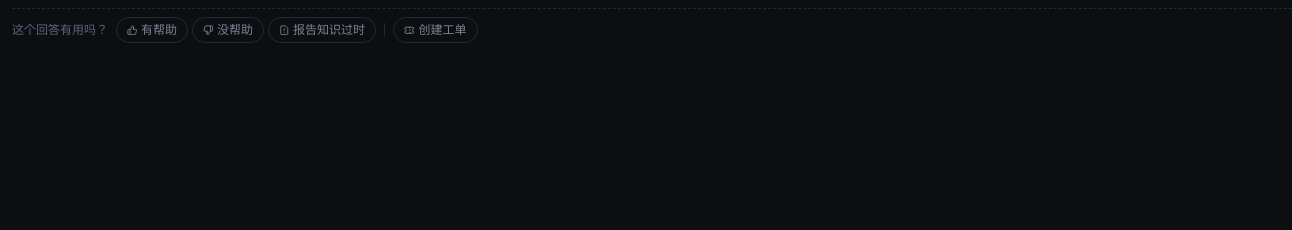
Test: FeedbackRow › shows 无引用 when the message carries no citations
What coordinates should you click on to do the following:
click the button with test id "feedback-ticket"
I would click on:
 (435, 30)
Its box is [393,17,478,43].
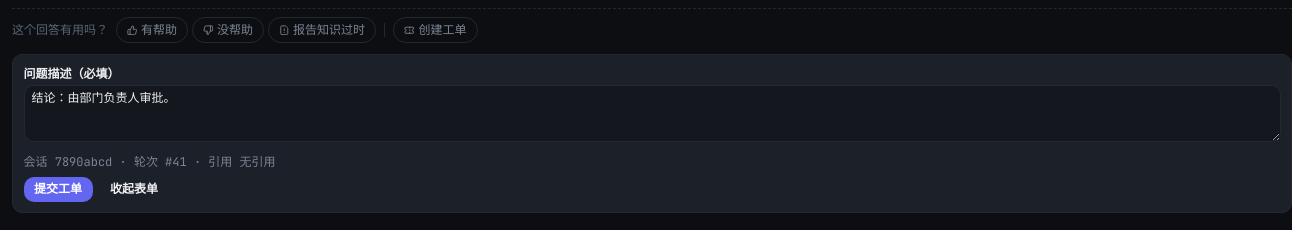
Expected: the element with test id "feedback-ticket-refs" shows "无引用", [240,154,276,170]
